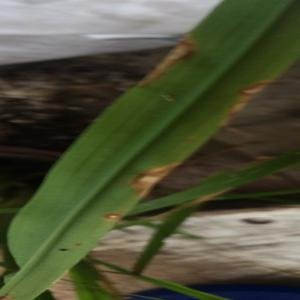Rice_Blast: (141, 29, 204, 97), (118, 157, 188, 205), (216, 70, 279, 123), (94, 203, 139, 238)
